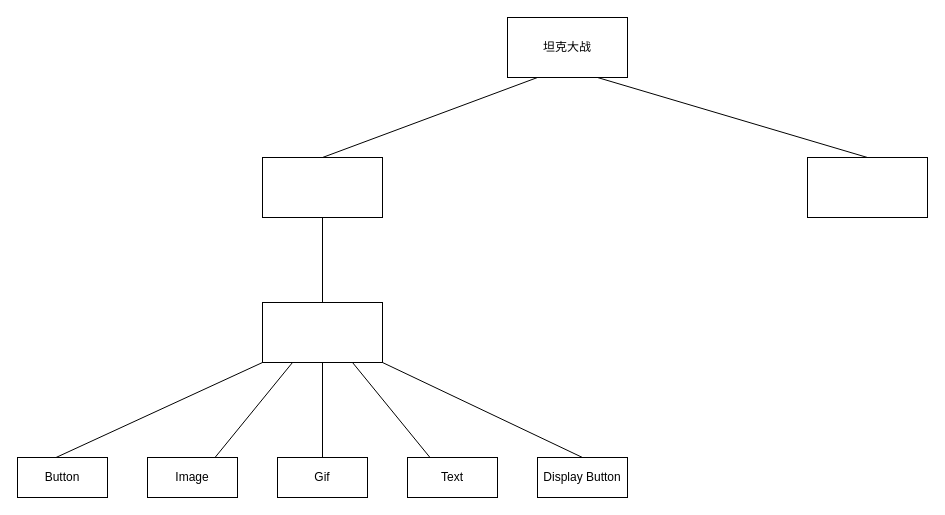
The diagram is 945 pixels wide and 515 high, and some of its shapes have lost their labels. Here are the shapes that lost their labels. From the top down, the centre of each, then its label:
pixel 322 187: 游戏菜单界面
pixel 867 187: 游戏运行界面
pixel 322 332: Menu
